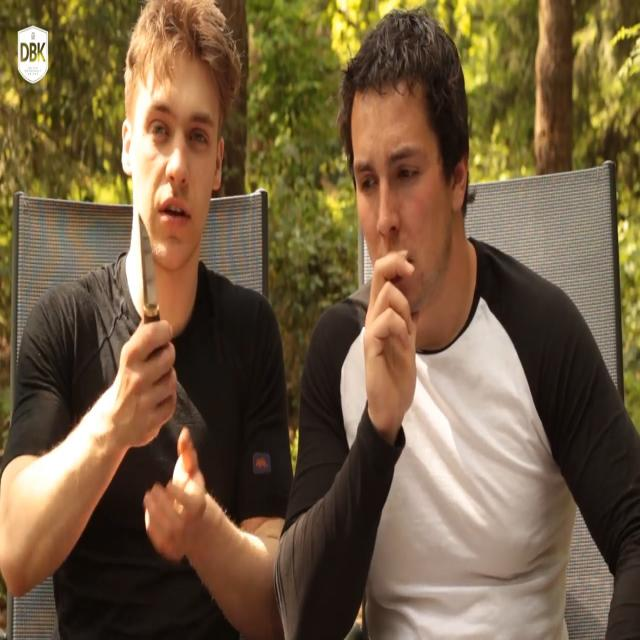knife: (133, 210, 173, 342)
